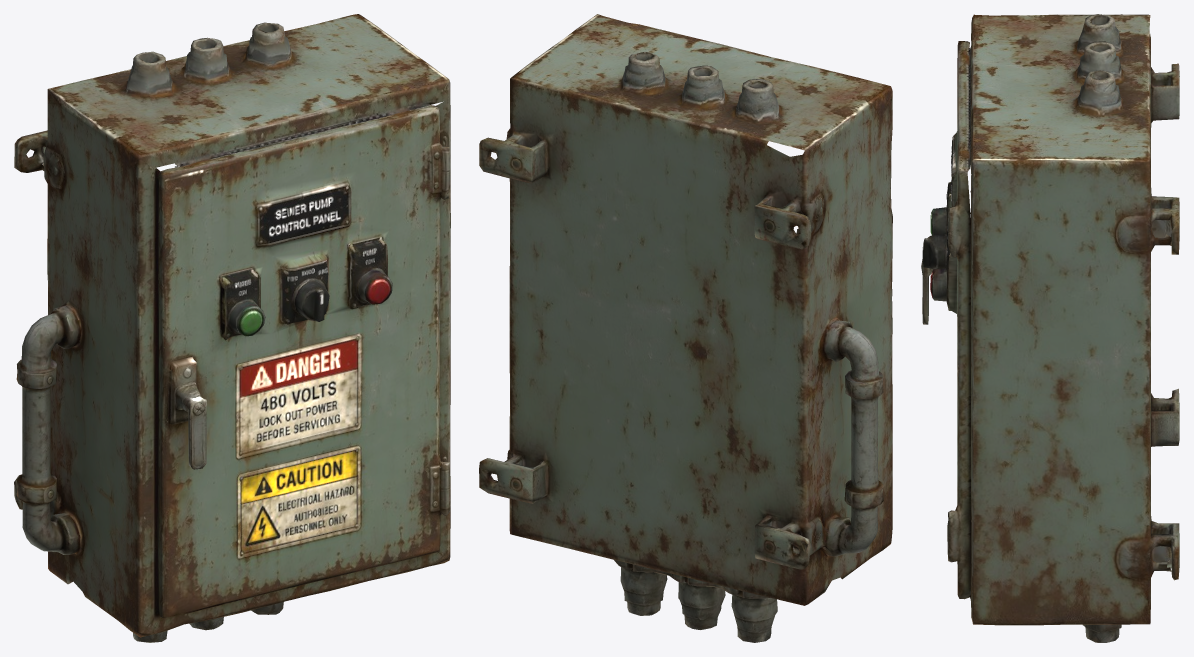
File: kw_panel.glb
3 views of the same model, side by side, from view 1: azimuth 30°, elevation 25°; view 2: azimuth 150°, elevation 25°; view 3: azimuth 270°, elevation 25° (orthographic). The views are drawn at different scales.
Parts seen in each view (by area): view 1: frame; view 2: frame; view 3: frame.
Part boxes in pixels (<box>): frame: <box>14,14,450,642</box>; frame: <box>479,14,892,642</box>; frame: <box>921,14,1179,642</box>.
Size of the model in its own units: 1.24 by 1.8 by 0.7494.
1 material, 1 textured.
